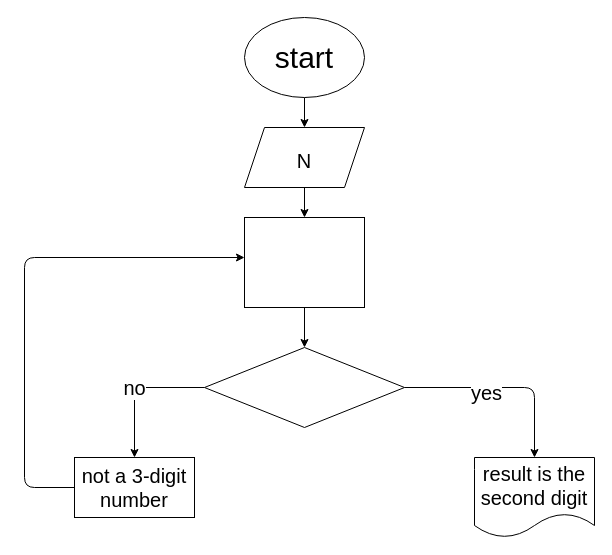
Some shapes in this 612 by 555 pixel diagram are drawn without their labels. The shapes that lost their labels are listed below. From the top down, each one's centre as x and y in pixels, then its label:
[304,262]: N, Length
[304,387]: if Length == 3
